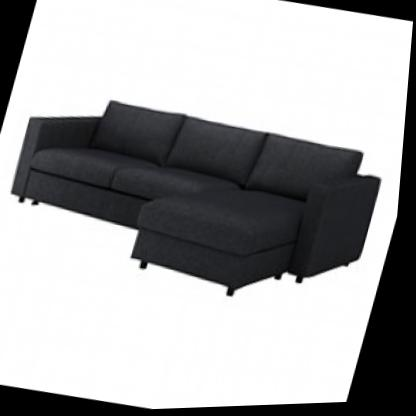Sofa: (0, 56, 405, 328)
